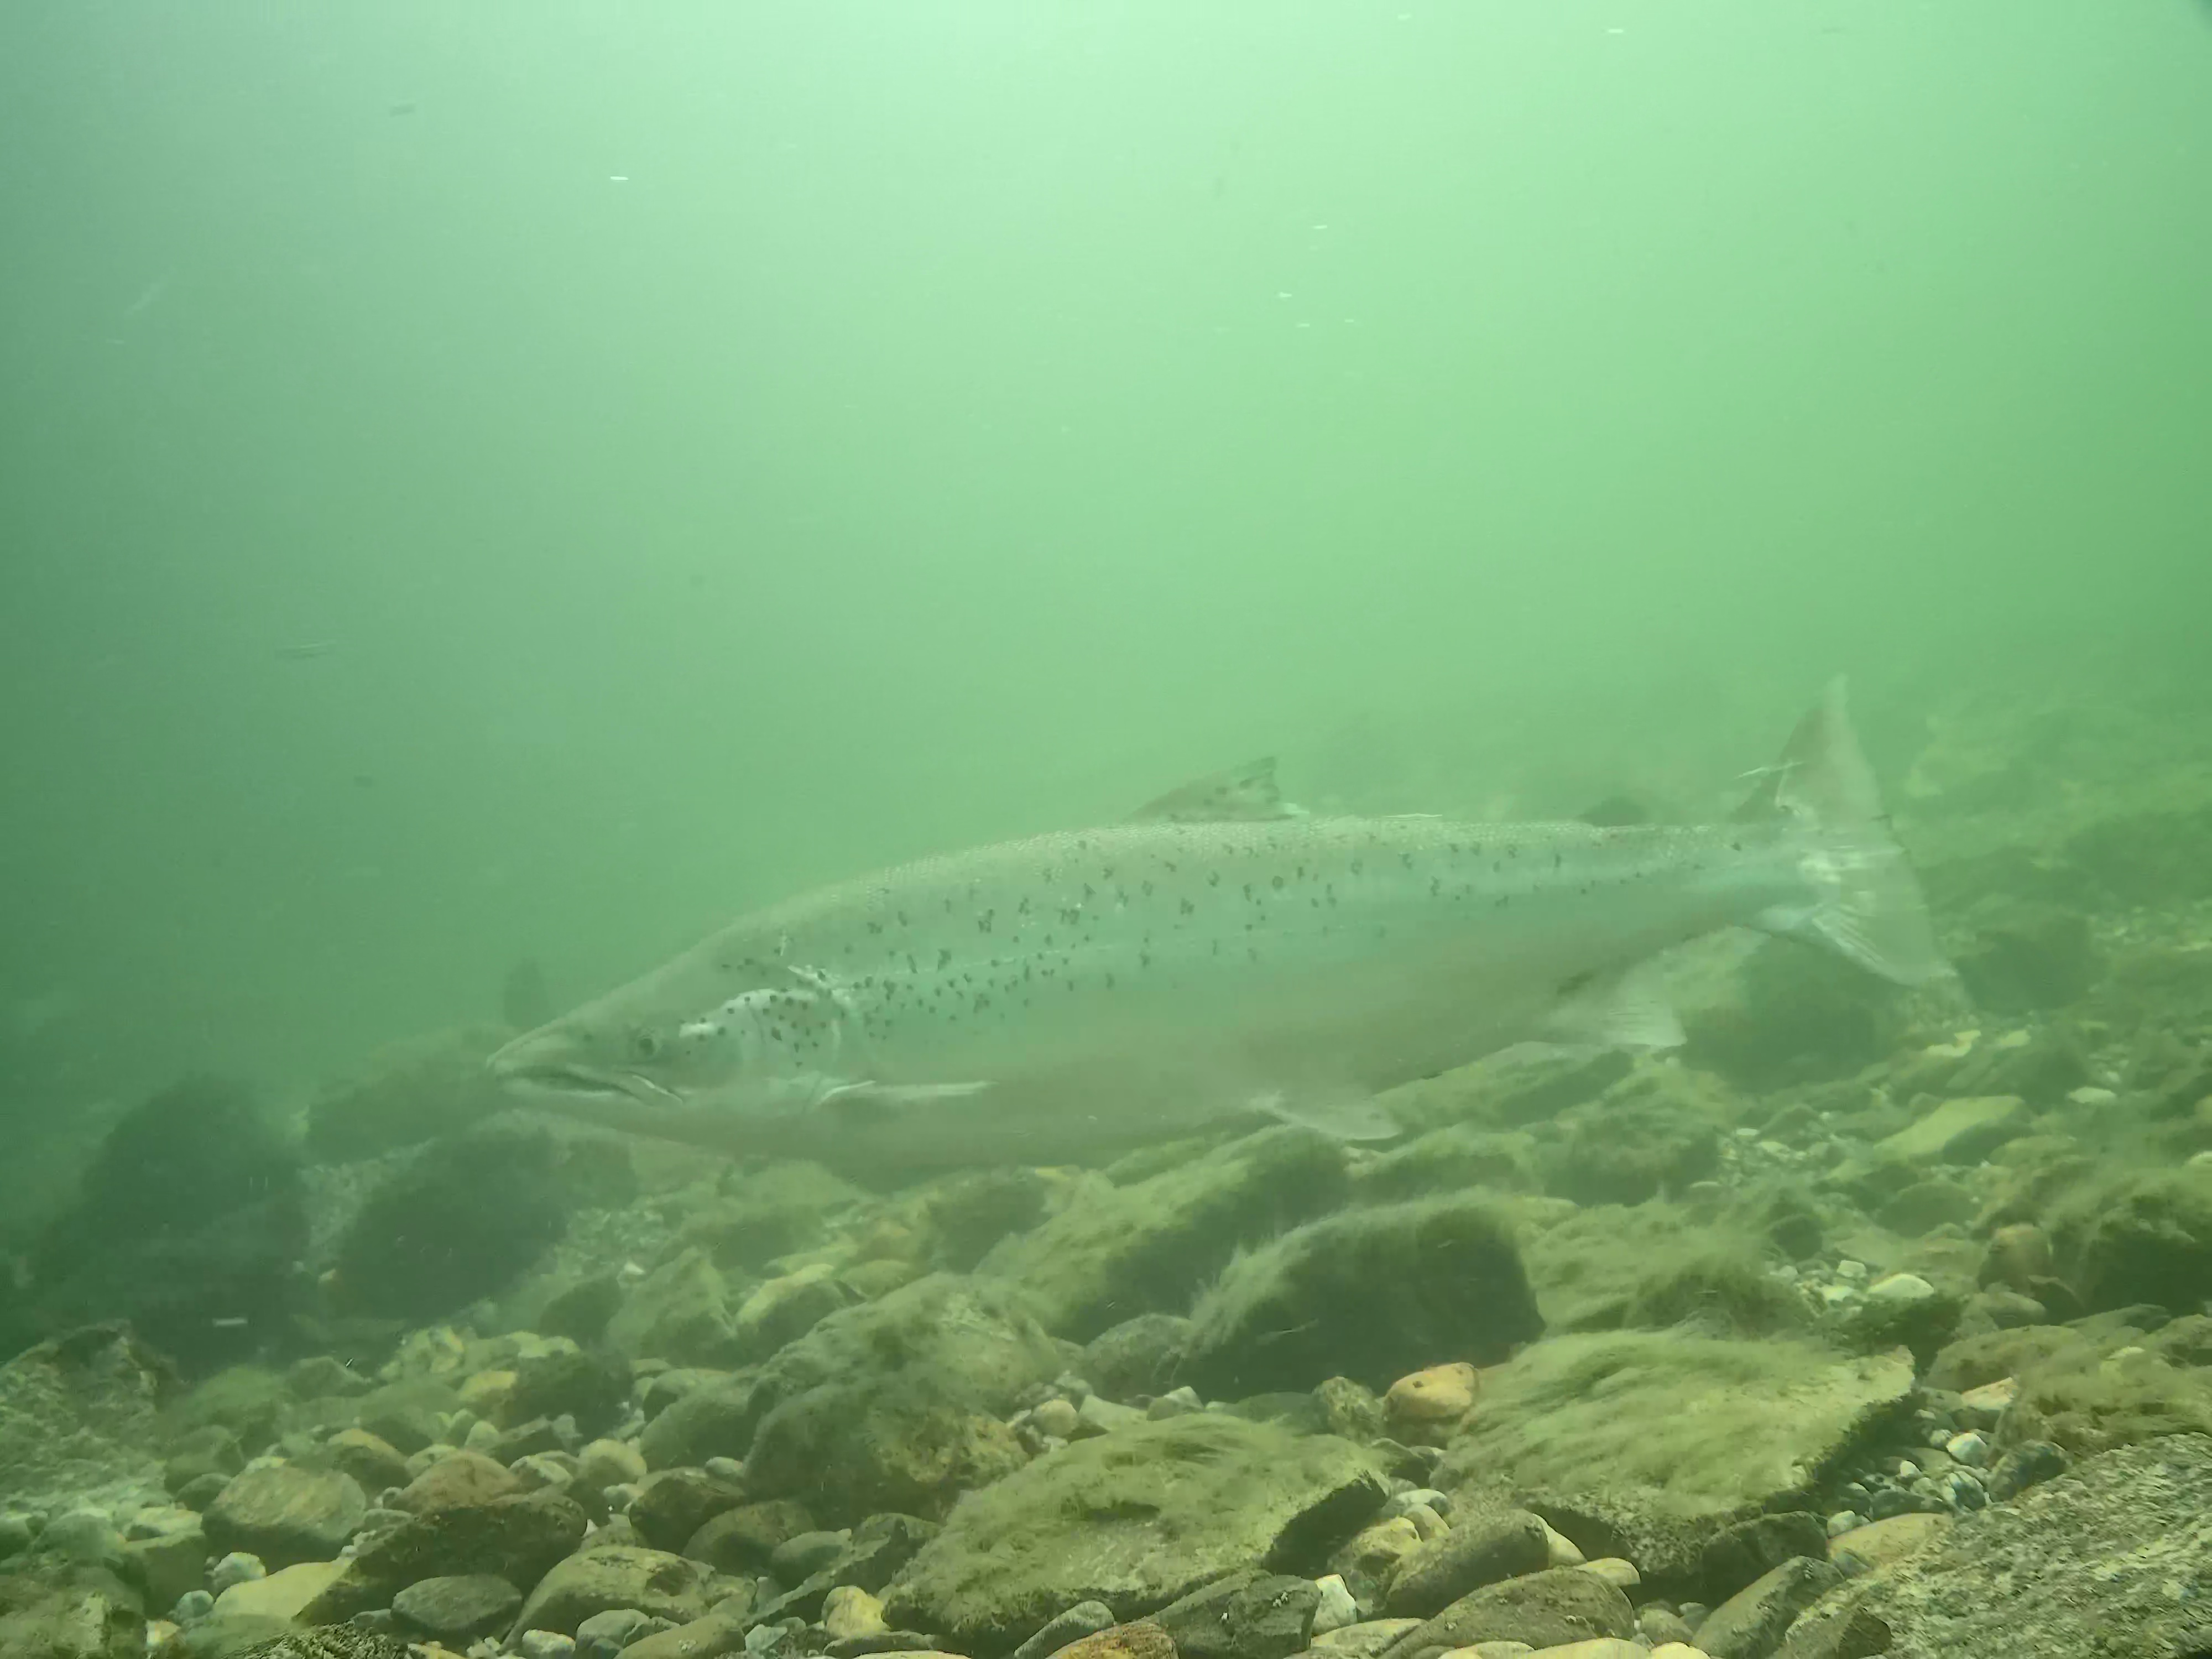salmon: (481, 667, 1966, 1173)
